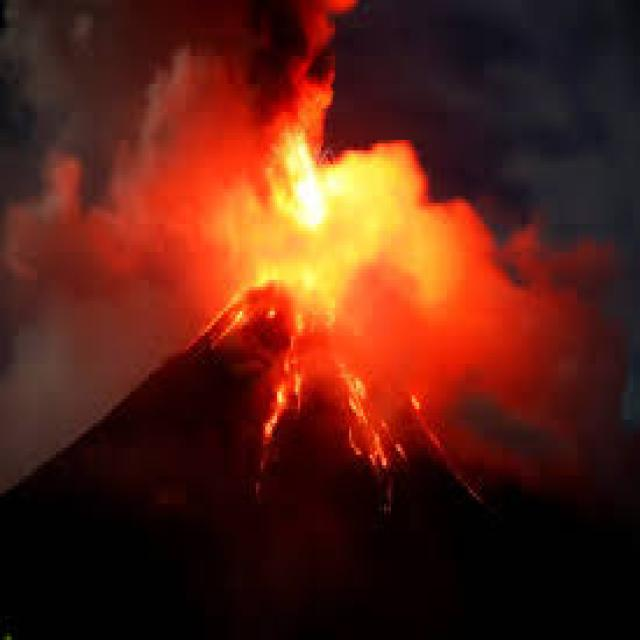explosion: (107, 0, 575, 507)
